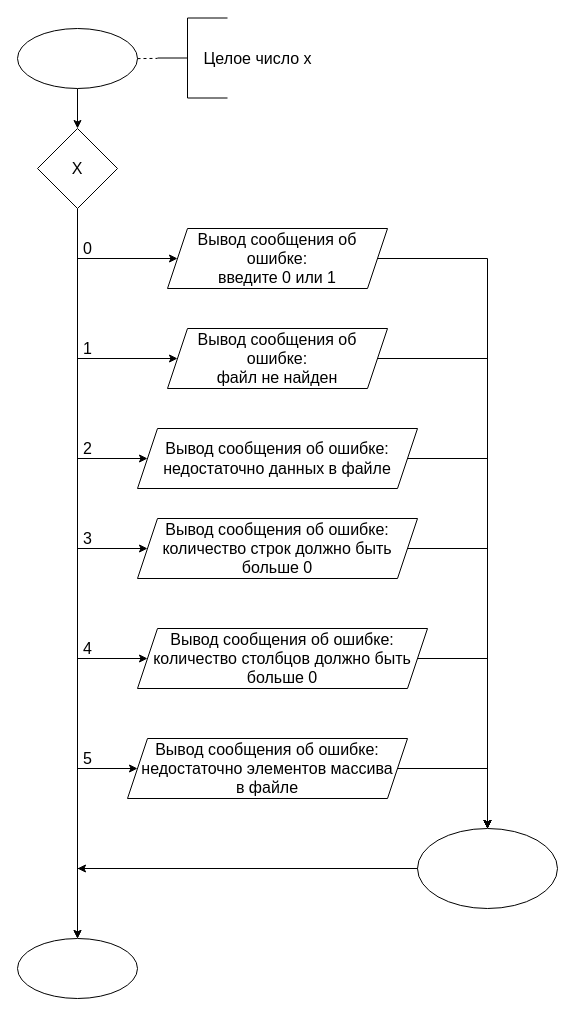
Some shapes in this 575 by 1016 pixel diagram are drawn without their labels. The box of each missing label's shape, as (x1, y1, x2, y2) in pixels:
Завершение работы программы: (416, 828, 558, 908)
КОНЕЦ: (16, 938, 138, 998)
НАЧАЛО: (16, 28, 138, 88)
